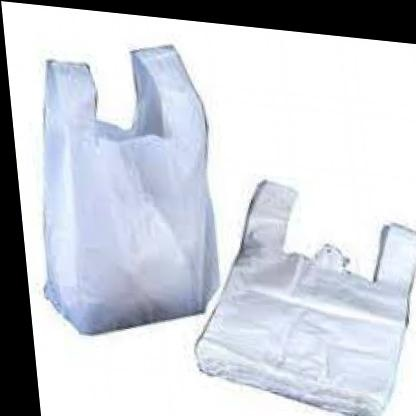trash: (196, 181, 415, 415), (44, 46, 218, 332)
